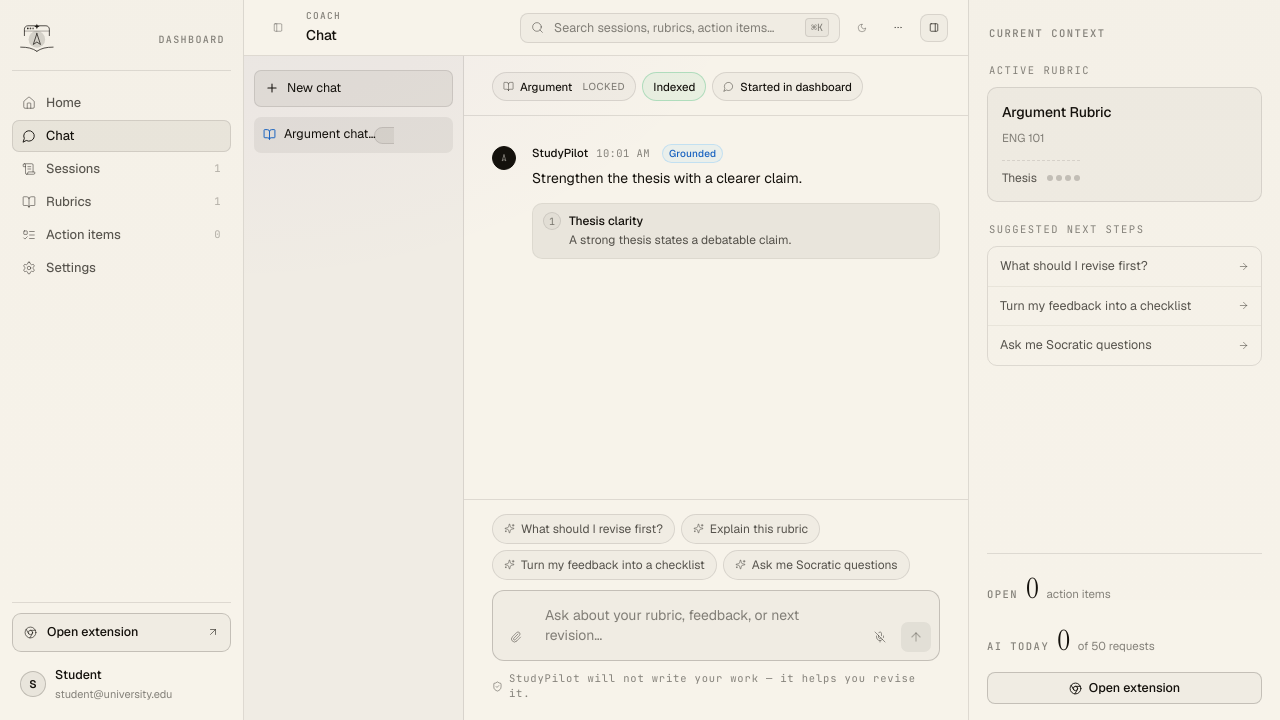
it: Dashboard rubric RAG behaviors › shows a transcript error and retries only the selected session request
Step 1. Click the button "Sessions 1" → (122, 169), box [12, 153, 231, 185]
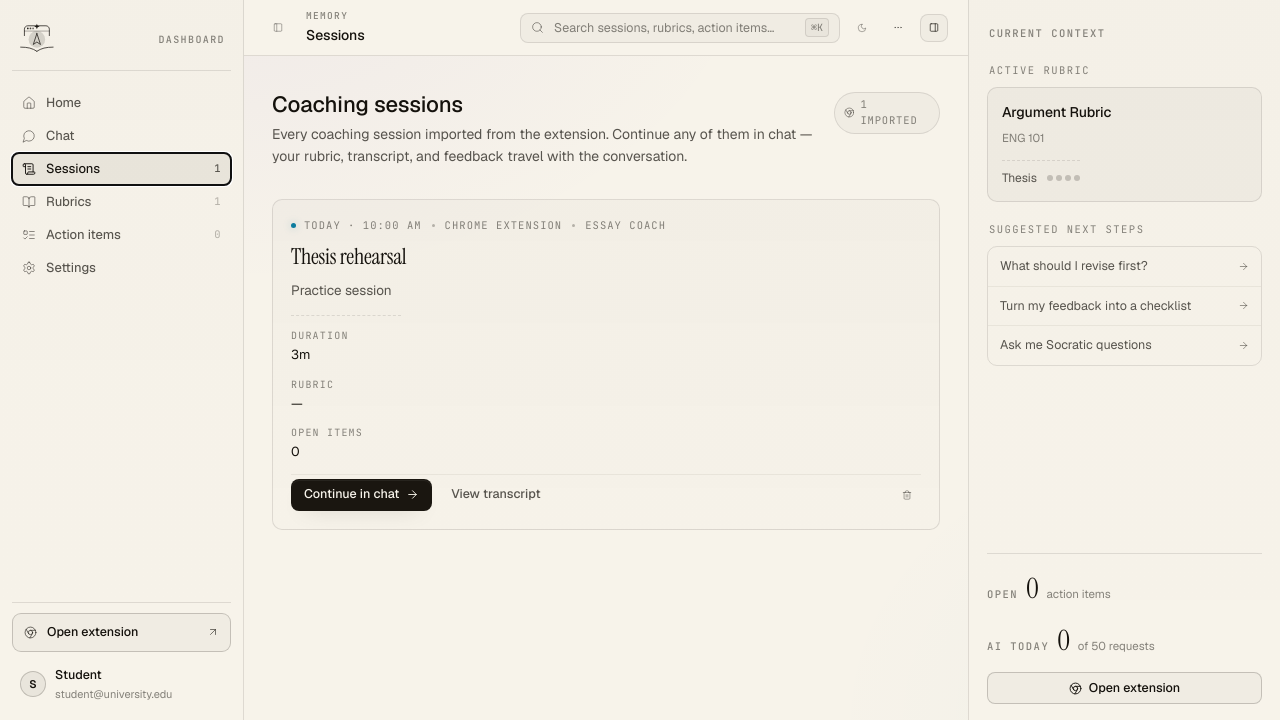
Step 2. Click the button "View transcript" → (496, 495), box [440, 479, 552, 511]
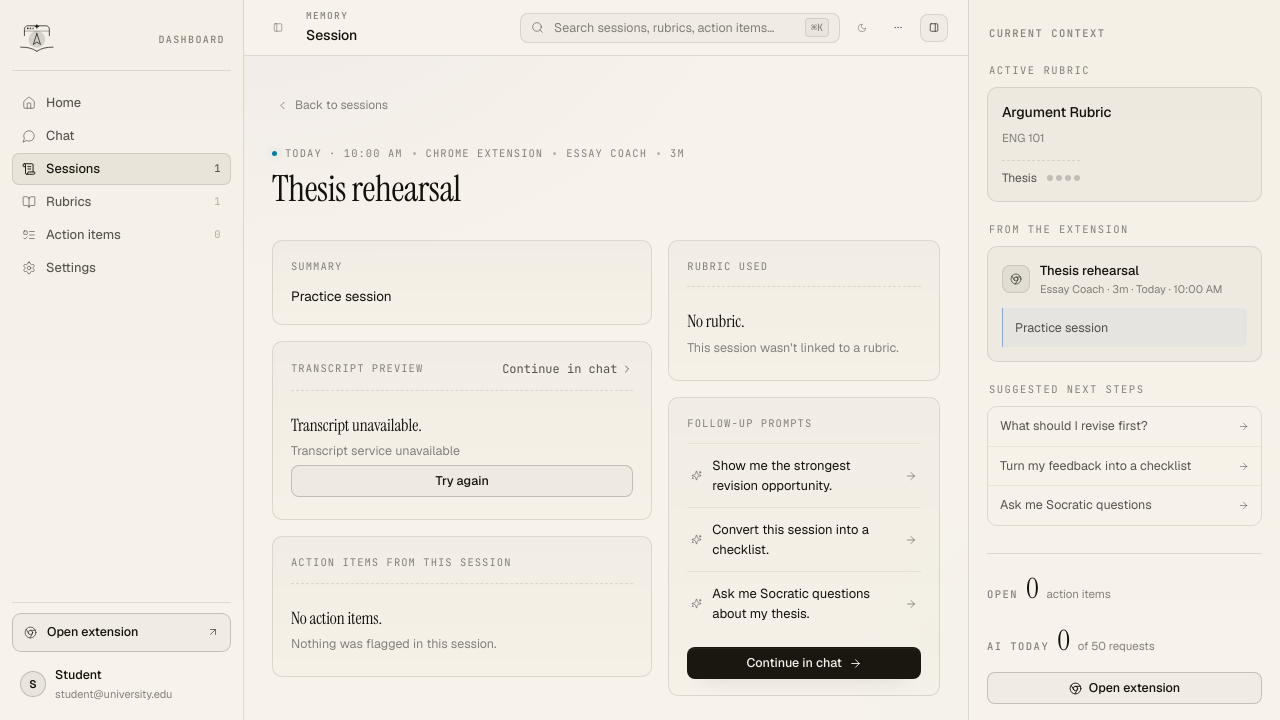
Expected: the text "Transcript unavailable." is shown, [291, 414, 422, 436]
Expected: the text "Transcript service unavailable" is shown, [291, 442, 460, 459]
Step 3. Click the button "Try again" → (462, 481), box [291, 465, 633, 497]
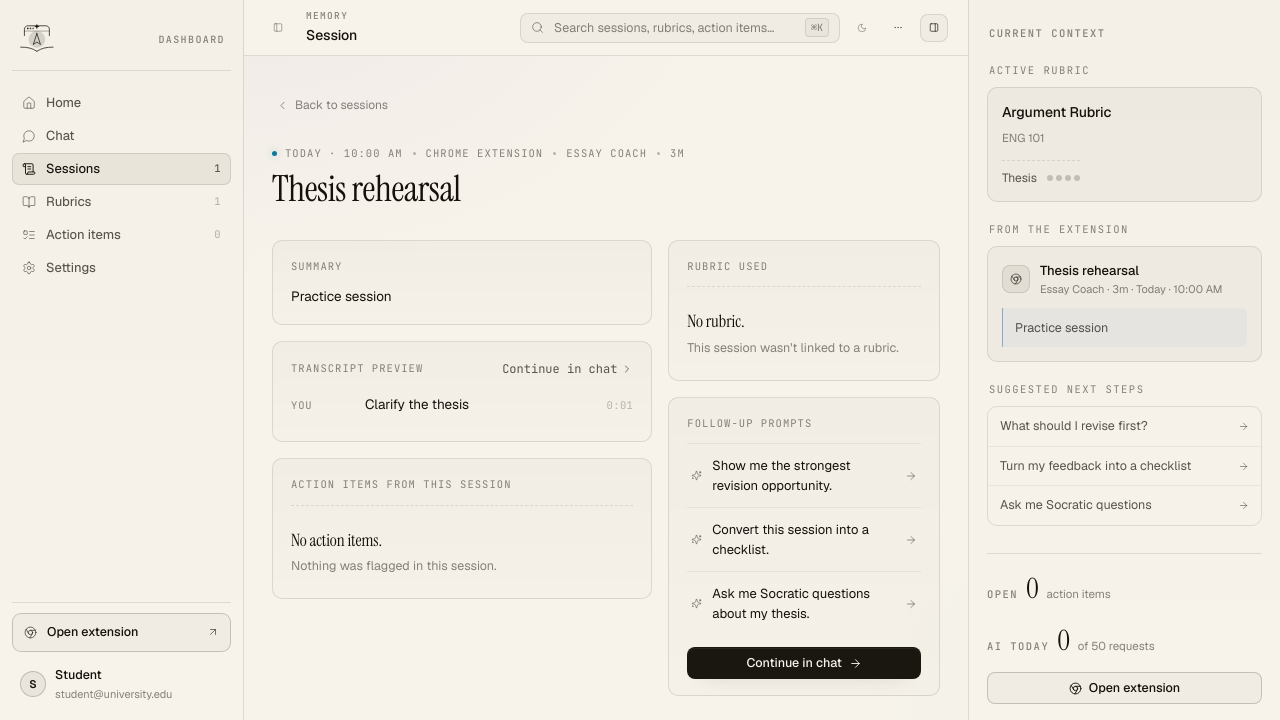
Expected: the text "Clarify the thesis" is shown, [365, 395, 469, 413]
